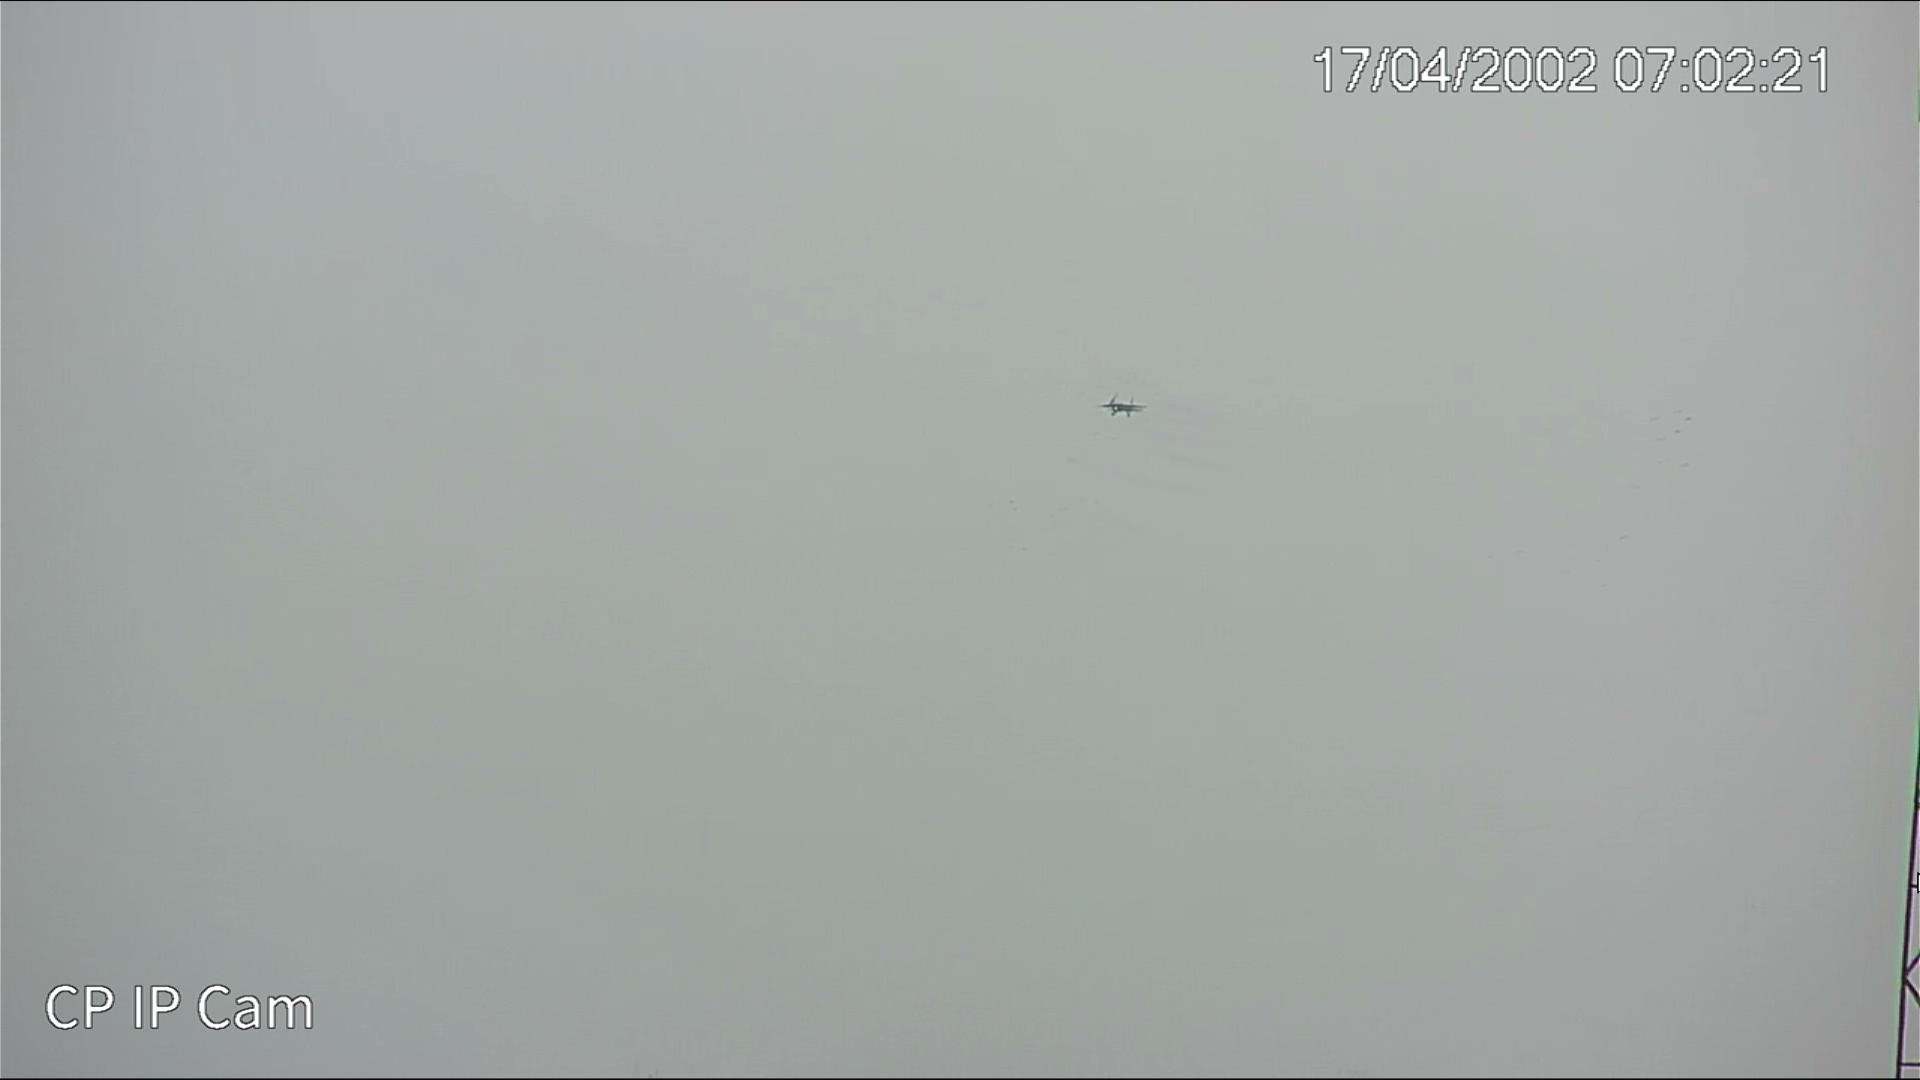SU_30: (1102, 393, 1145, 417)
